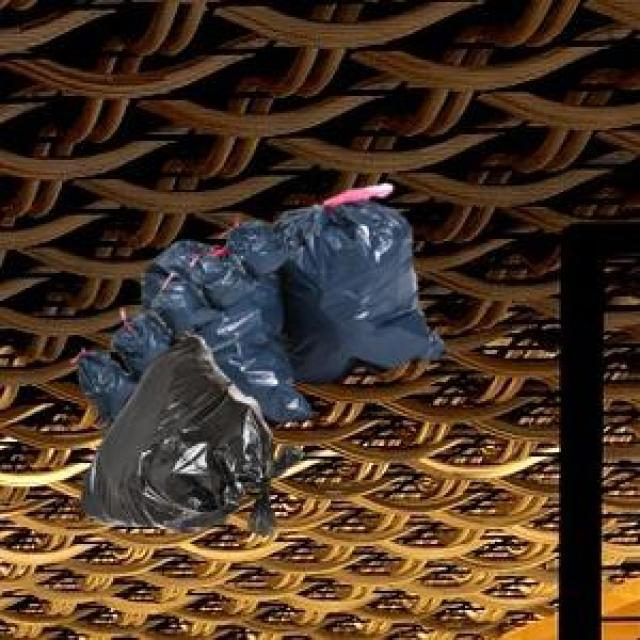Trashbag: (94, 349, 256, 536), (292, 193, 423, 386), (232, 220, 297, 274), (113, 307, 171, 362), (202, 247, 252, 307), (165, 275, 214, 334)
